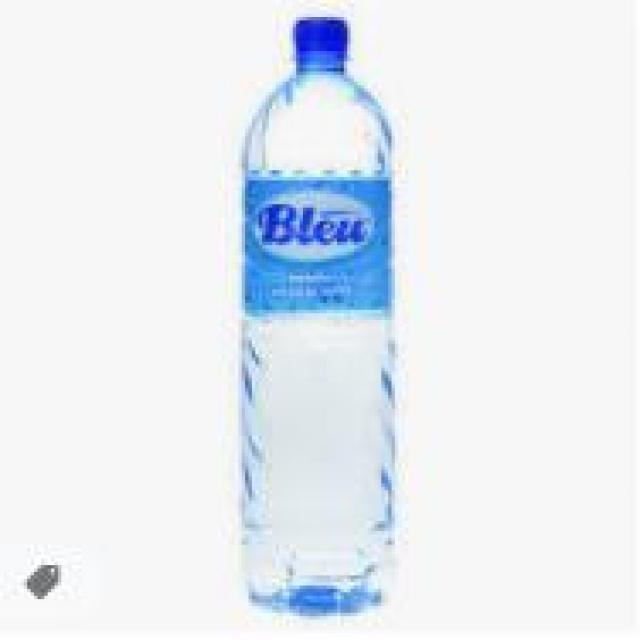bottle: (218, 12, 410, 605)
